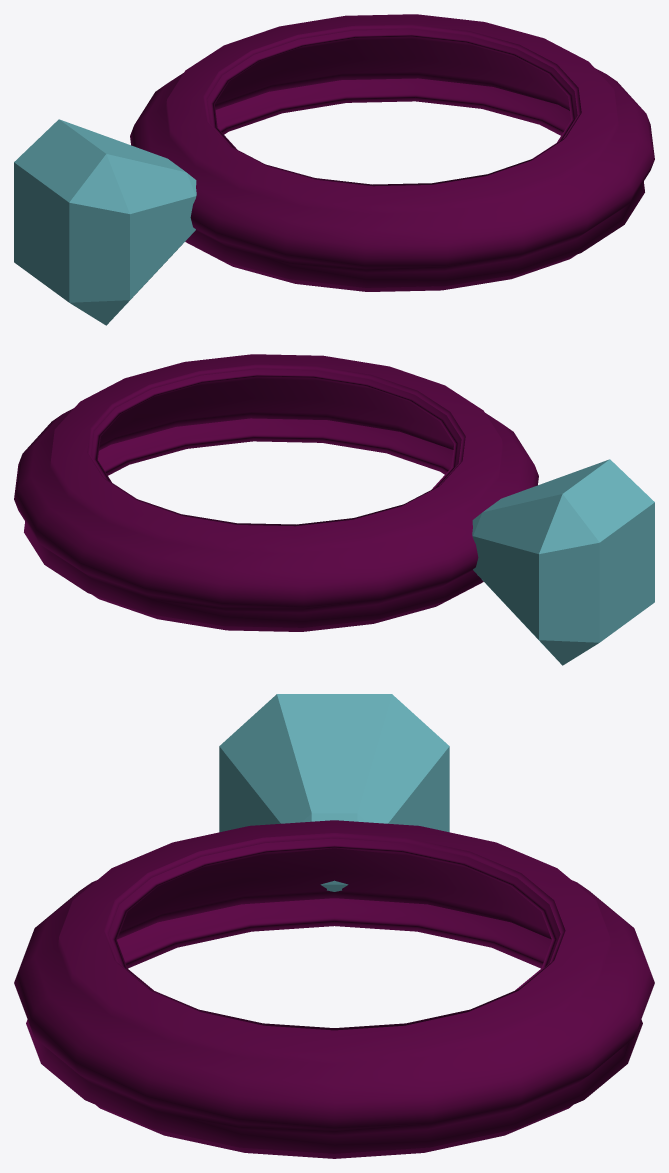
The model's file is ring.fbx.
3 views of the same model, one above another, from view 1: azimuth 30°, elevation 25°; view 2: azimuth 150°, elevation 25°; view 3: azimuth 270°, elevation 25° (orthographic). The views are drawn at different scales.
Visible parts, largest first — view 1: pCube2; view 2: pCube2; view 3: pCube2.
Boxes of the visible parts, x1,y1,x2,y2 form: pCube2: (14, 14, 654, 325); pCube2: (14, 354, 654, 665); pCube2: (14, 694, 654, 1158).
Size of the model in its own units: 105 by 29.74 by 82.77.
